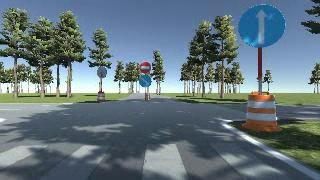go_ahead: (237, 4, 286, 49)
